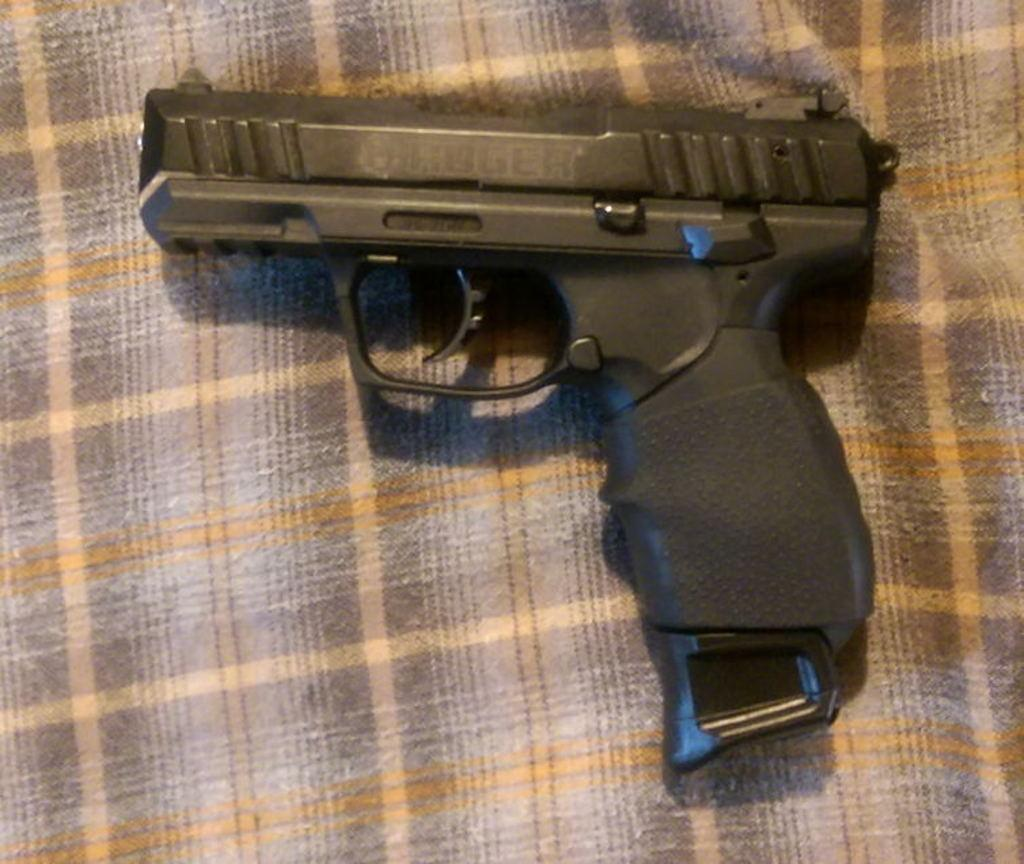Handgun: (143, 68, 902, 781)
